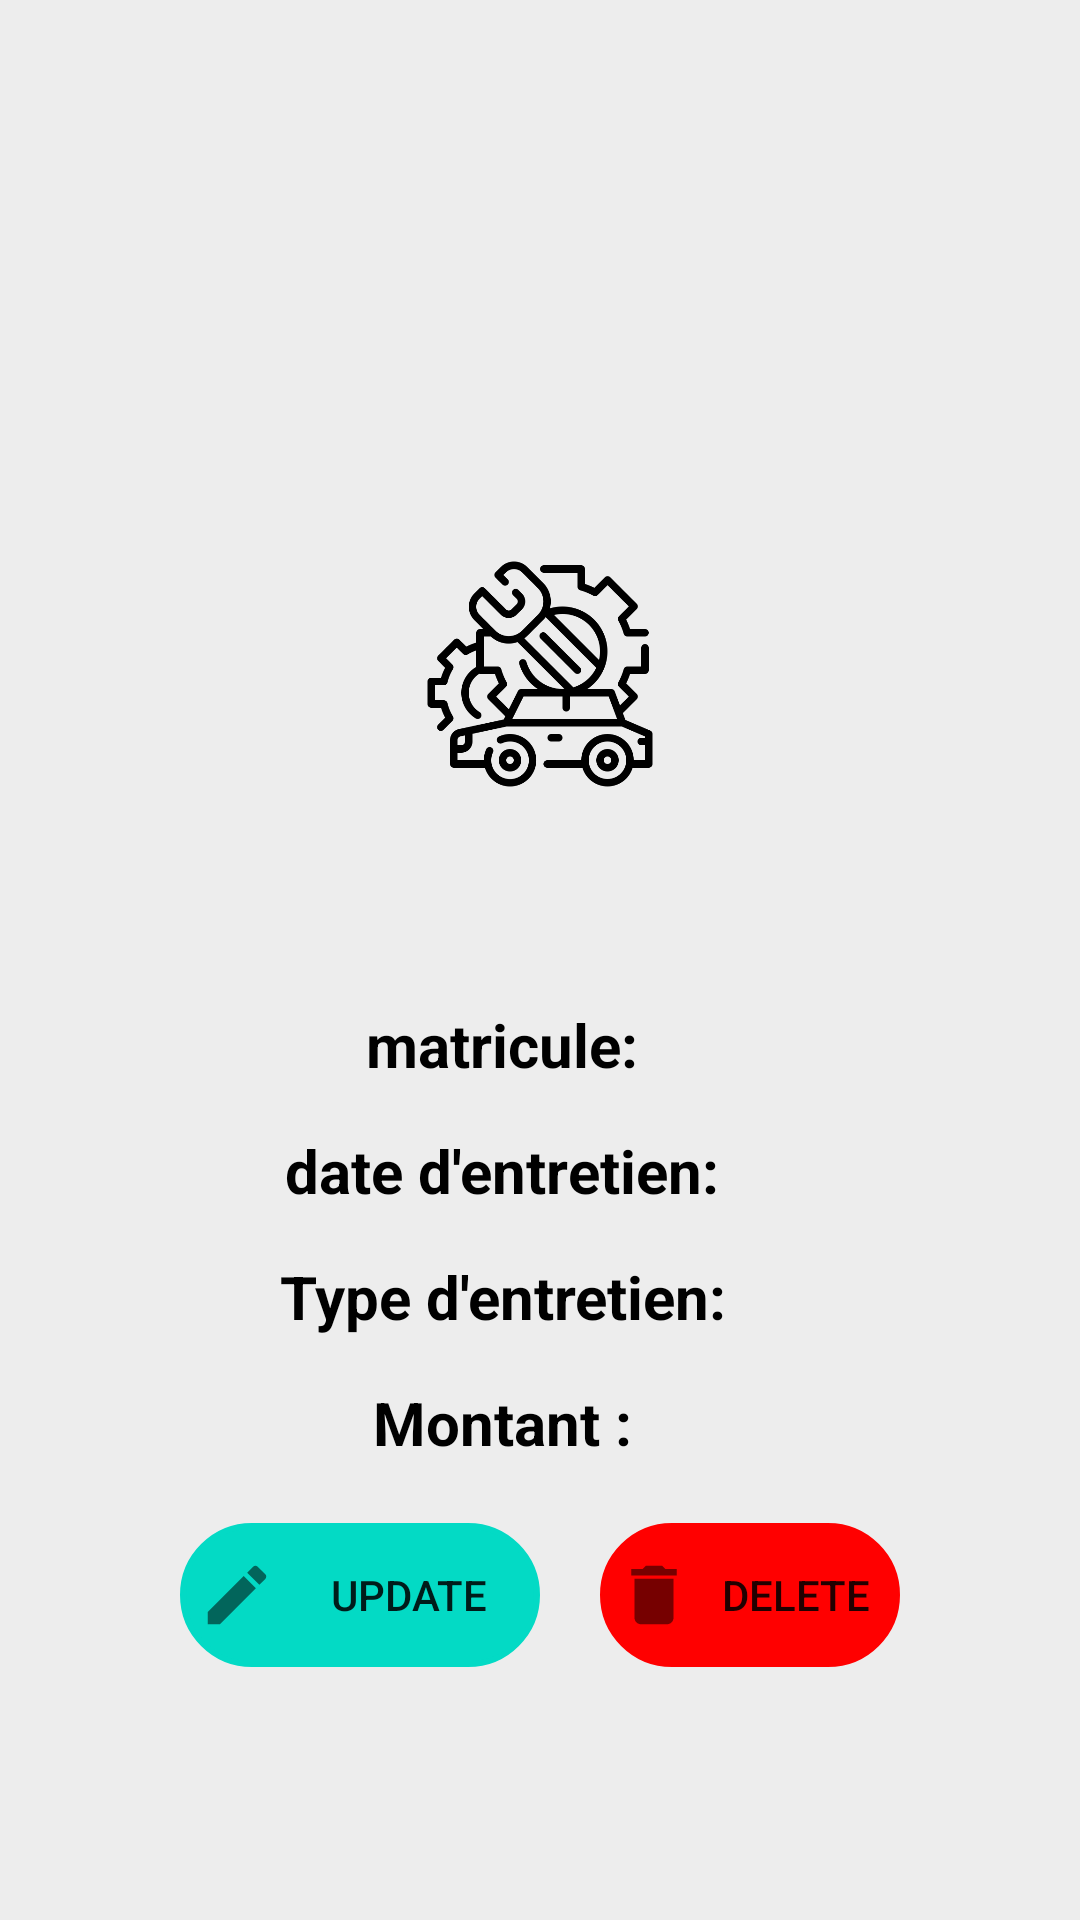

Where to tap for icons on this 1080w x 1920h app screen, as point (x, y):
maintenance: point (540, 674)
